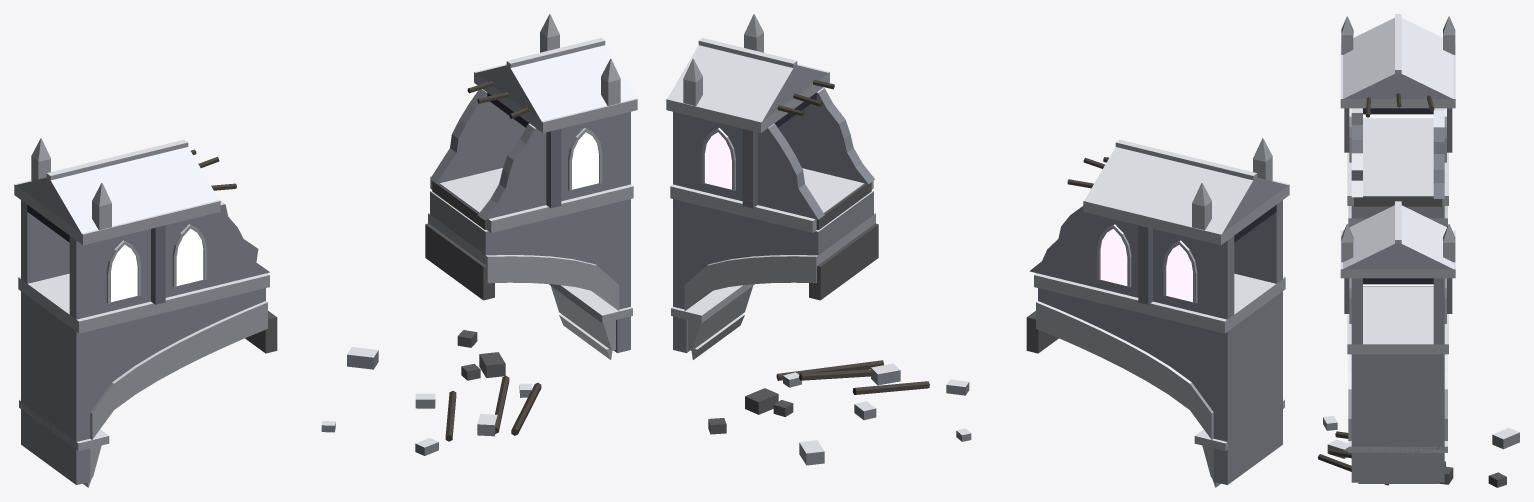
Rendered from PR_Passadico_Partido_23.fbx.
The picture shows the model from 3 angles, left to right: view 1: azimuth 30°, elevation 25°; view 2: azimuth 150°, elevation 25°; view 3: azimuth 270°, elevation 25°; orthographic projection. The views are drawn at different scales.
Parts seen in each view (by area): view 1: PR_Passadico_Partido_23; view 2: PR_Passadico_Partido_23; view 3: PR_Passadico_Partido_23.
Boxes of the visible parts, x1,y1,x2,y2 form: PR_Passadico_Partido_23: (14, 14, 637, 487); PR_Passadico_Partido_23: (666, 14, 1289, 487); PR_Passadico_Partido_23: (1318, 14, 1519, 487).
Size of the model in its own units: 24.2 by 14.08 by 9.13.
